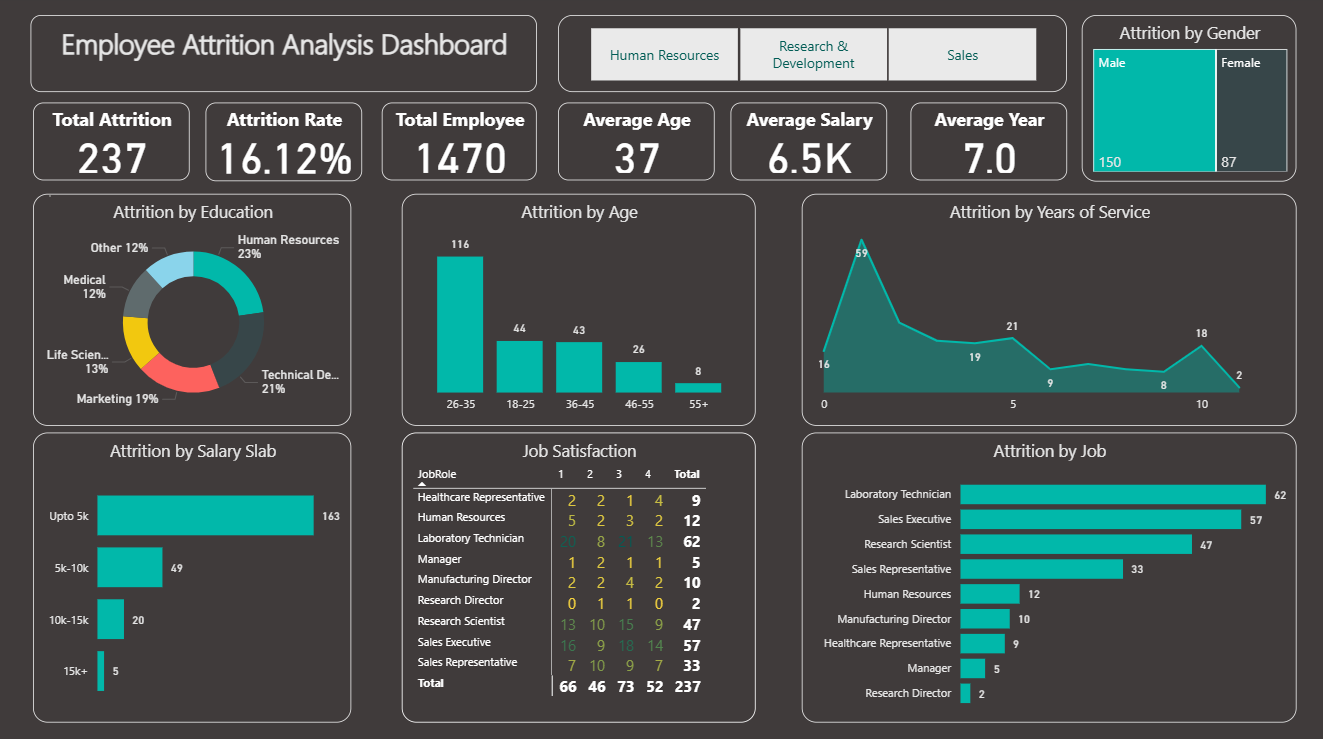

The dashboard page shown, as its layout file describes it:
{"tool":"powerbi","page":{"name":"Page 1","canvas":[1280,720],"ordinal":0},"visuals":[{"type":"card","title":"Total Employee","fields":{"Values":["CountNonNull(HR_Analytics.EmpID)"]},"box":[370.5,104.3,149.6,75.5],"z":0},{"type":"card","title":"Total Attrition","fields":{"Values":["Sum(HR_Analytics.Attrition_Count)"]},"box":[34.3,104.3,150.9,75.5],"z":1000},{"type":"card","title":"Attrition Rate","fields":{"Values":["HR_Analytics.Attrition_Rate"]},"box":[209.9,104.3,150.9,75.5],"z":2000},{"type":"card","title":"Average Age","fields":{"Values":["Avg(HR_Analytics.Age)"]},"box":[540.7,104.3,150.9,75.5],"z":3000},{"type":"card","title":"Average Salary","fields":{"Values":["Avg(HR_Analytics.MonthlyIncome)"]},"box":[706.7,104.3,150.9,75.5],"z":4000},{"type":"card","title":"Average Year","fields":{"Values":["Avg(HR_Analytics.YearsAtCompany)"]},"box":[881,104.3,150.9,75.5],"z":5000},{"type":"donutChart","title":"Attrition by Education","fields":{"Category":["HR_Analytics.EducationField"],"Y":["HR_Analytics.Attrition_Rate"]},"box":[34.3,192.1,307.4,223.7],"z":6000},{"type":"columnChart","title":"Attrition by Age","fields":{"Category":["HR_Analytics.AgeGroup"],"Y":["Sum(HR_Analytics.Attrition_Count)"]},"box":[389.7,192.1,341.7,223.7],"z":7000},{"type":"barChart","title":"Attrition by Salary Slab","fields":{"Category":["HR_Analytics.SalarySlab"],"Y":["Sum(HR_Analytics.Attrition_Count)"]},"box":[34.3,422.6,307.4,279.9],"z":8000},{"type":"barChart","title":"Attrition by Job","fields":{"Y":["Sum(HR_Analytics.Attrition_Count)"],"Category":["HR_Analytics.JobRole"]},"box":[775.3,422.6,477.5,279.9],"z":9000},{"type":"areaChart","title":"Attrition by Years of Service","fields":{"Y":["Sum(HR_Analytics.Attrition_Count)"],"Category":["HR_Analytics.YearsAtCompany"]},"box":[775.3,192.1,477.5,223.7],"z":10000},{"type":"pivotTable","title":"Job Satisfaction","fields":{"Values":["Sum(HR_Analytics.Attrition_Count)"],"Columns":["HR_Analytics.JobSatisfaction"],"Rows":["HR_Analytics.JobRole"]},"box":[389.7,422.6,341.7,279.9],"z":11000},{"type":"treemap","title":"Attrition by Gender","fields":{"Values":["Sum(HR_Analytics.Attrition_Count)"],"Group":["HR_Analytics.Gender"]},"box":[1045.6,19.2,207.2,160.5],"z":12000},{"type":"slicer","fields":{"Values":["HR_Analytics.Department"]},"box":[540.7,19.2,491.3,74.1],"z":13000},{"type":"textbox","box":[31.6,19.2,488.5,74.1],"z":14000}]}

Visuals, with their boxes in screenshot pixels (x1, y1, x2, y2), scaled from the page's 1280x720 canvas onto the 1323x739 screenshot:
"Total Employee" card: (383, 107, 538, 185)
"Total Attrition" card: (35, 107, 191, 185)
"Attrition Rate" card: (217, 107, 373, 185)
"Average Age" card: (559, 107, 715, 185)
"Average Salary" card: (730, 107, 886, 185)
"Average Year" card: (911, 107, 1067, 185)
"Attrition by Education" donutChart: (35, 197, 353, 427)
"Attrition by Age" columnChart: (403, 197, 756, 427)
"Attrition by Salary Slab" barChart: (35, 434, 353, 721)
"Attrition by Job" barChart: (801, 434, 1295, 721)
"Attrition by Years of Service" areaChart: (801, 197, 1295, 427)
"Job Satisfaction" pivotTable: (403, 434, 756, 721)
"Attrition by Gender" treemap: (1081, 20, 1295, 184)
slicer - HR_Analytics.Department: (559, 20, 1067, 96)
textbox: (33, 20, 538, 96)
